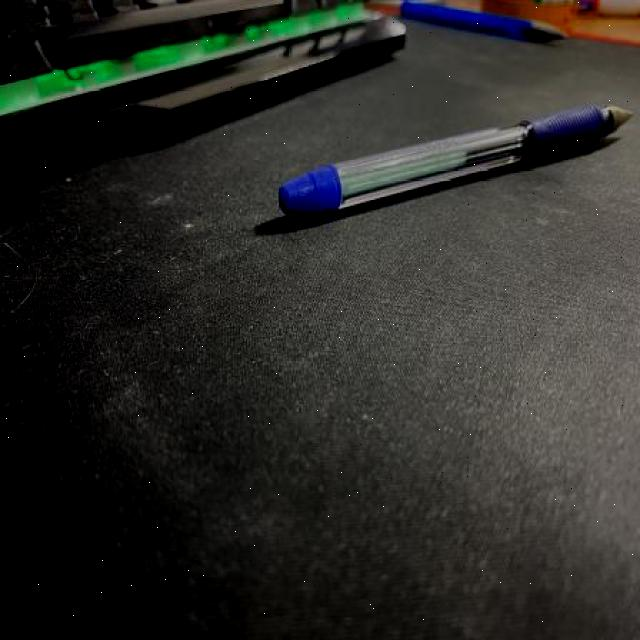pen: (274, 104, 634, 225)
